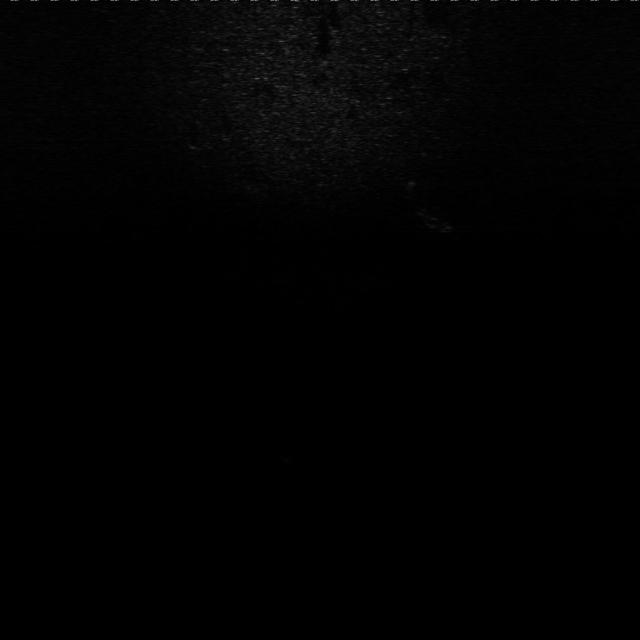human body: (403, 174, 467, 237)
